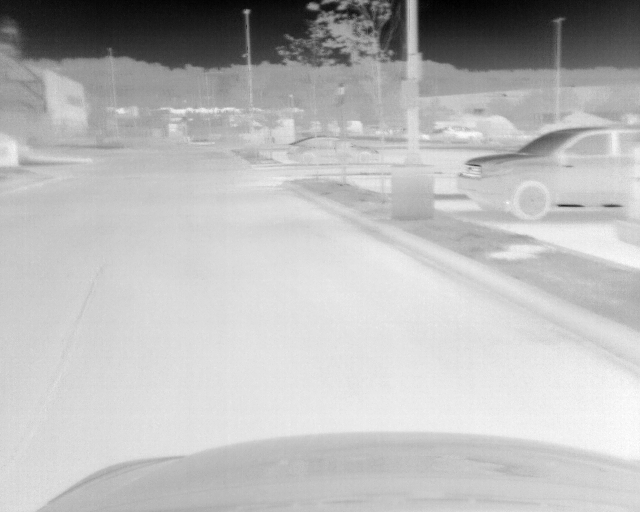car: (464, 123, 640, 222), (290, 134, 378, 164), (435, 123, 481, 146)
